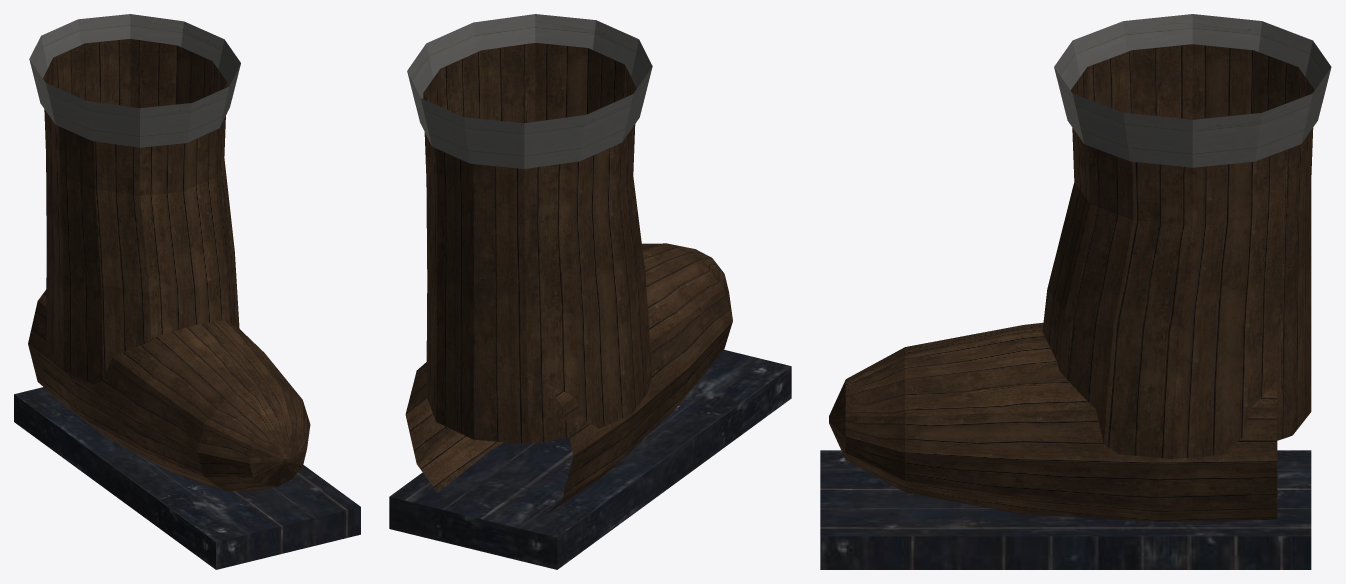
File: eq_past_1_boot.glb
3 renders of one model, left to right at view 1: azimuth 30°, elevation 25°; view 2: azimuth 150°, elevation 25°; view 3: azimuth 270°, elevation 25°, orthographic. The views are drawn at different scales.
Parts seen in each view (by area): view 1: eq_past_1_boot; view 2: eq_past_1_boot; view 3: eq_past_1_boot.
Part boxes in pixels (x1,y1,x2,y2): eq_past_1_boot: (14, 14, 360, 569); eq_past_1_boot: (389, 14, 791, 569); eq_past_1_boot: (820, 14, 1331, 569).
Size of the model in its own units: 0.148 by 0.3 by 0.302.
Materials: 3 (3 with a texture image).
